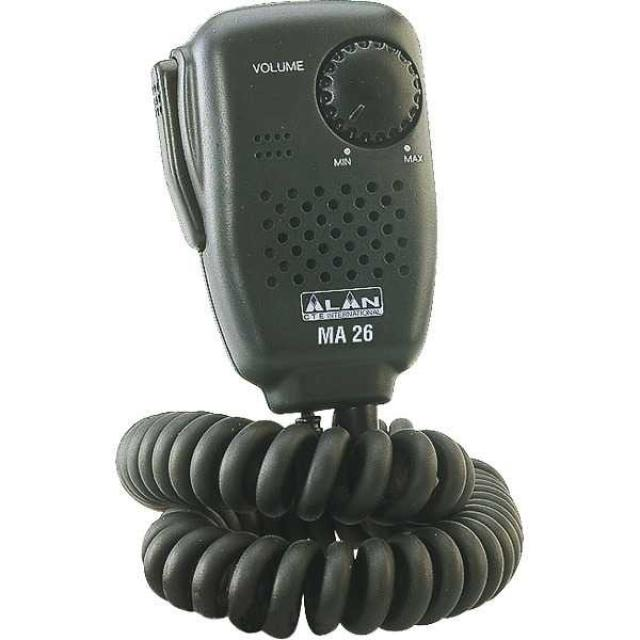microphone: (120, 9, 514, 412)
